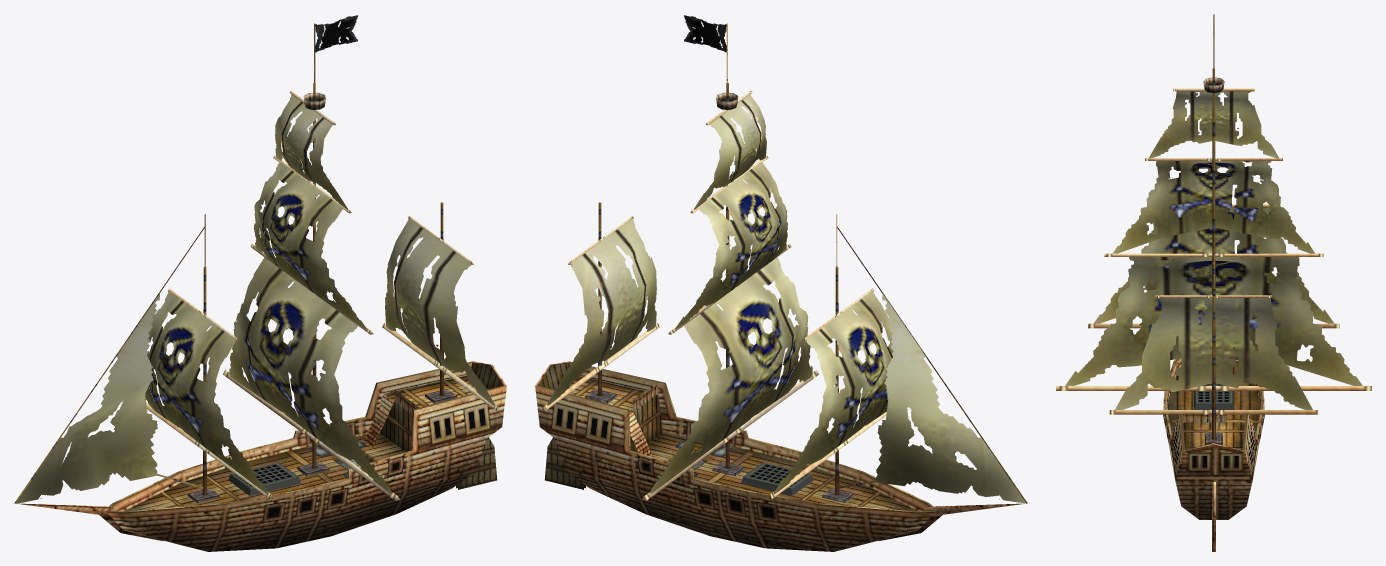
The model's file is ship.obj.
3 renders of one model, left to right at view 1: azimuth 30°, elevation 25°; view 2: azimuth 150°, elevation 25°; view 3: azimuth 270°, elevation 25°, orthographic. The views are drawn at different scales.
Visible parts, largest first — view 1: ship_01; view 2: ship_01; view 3: ship_01, ship_01_mirrored.
Part boxes in pixels (x1,y1,x2,y2): ship_01: [14, 15, 506, 551]; ship_01: [535, 15, 1027, 551]; ship_01: [1056, 14, 1371, 551]; ship_01_mirrored: [1211, 68, 1215, 409].
Bounding box in the file's own units: 3404 × 3419 × 2114.
